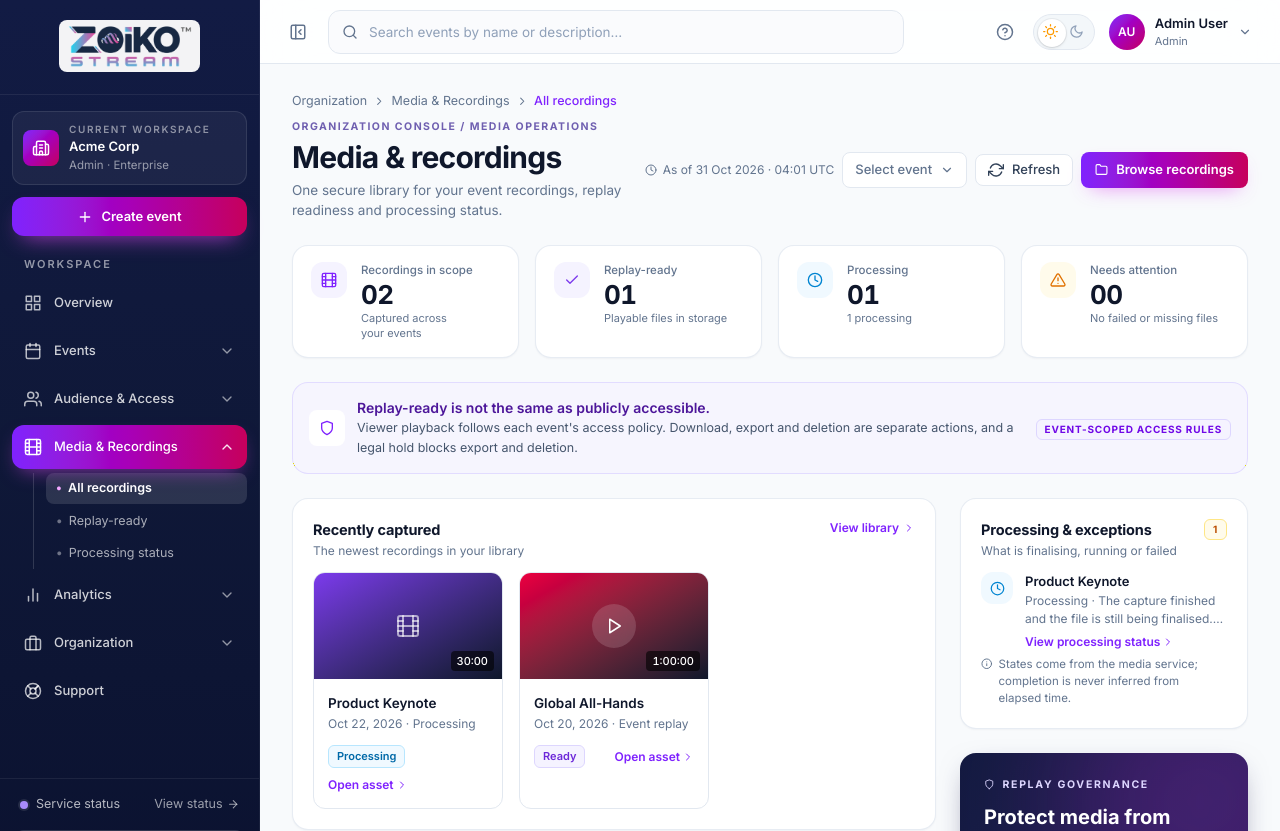
Scenario: Media & Recordings Parent and Child Navigation › clicking disclosure chevron toggles submenu without navigating away
The width and height of the screenshot is (1280, 831).
Expected: the heading "Media & recordings" is shown, [292,138,562,174]
Click the button named "Collapse Media & Recordings" at coordinates (227, 447), box [213,431,241,463]
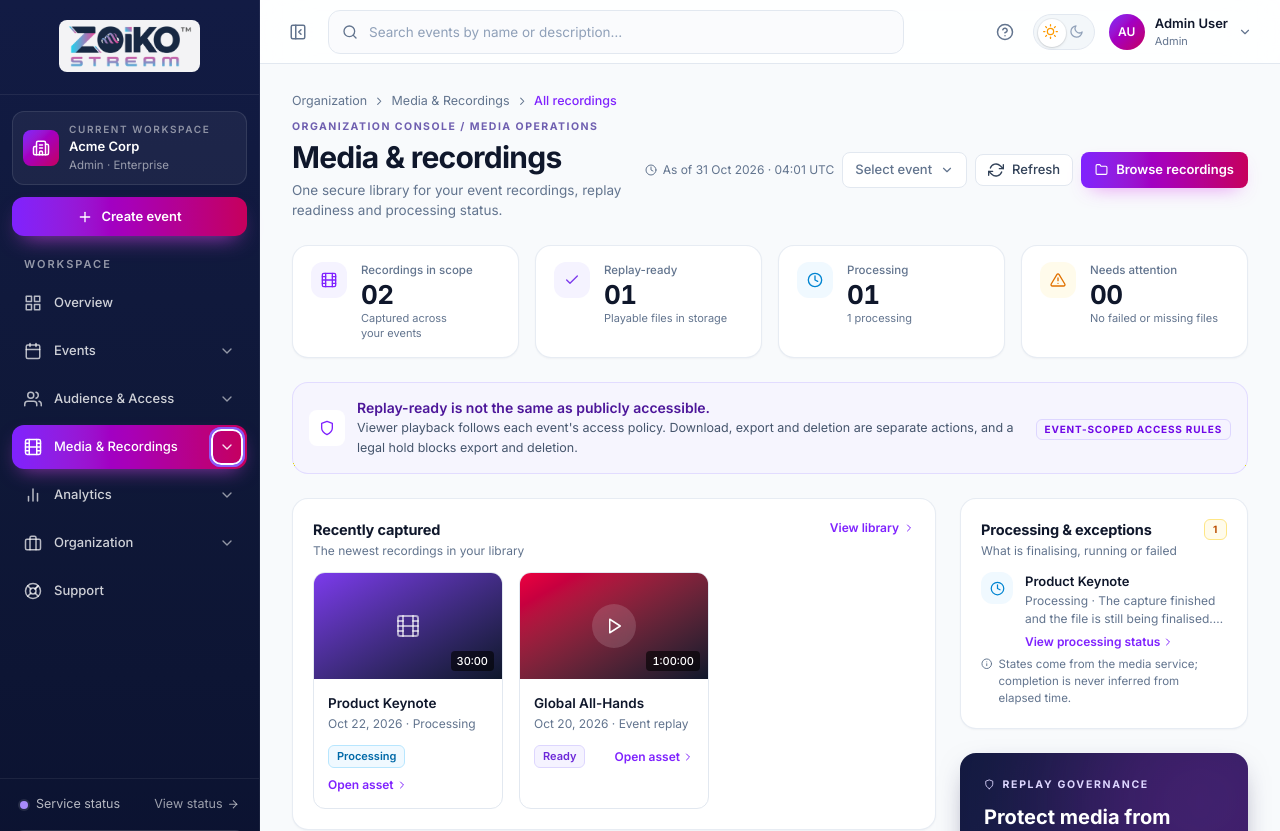
Expected: the heading "Media & recordings" is shown, [292,138,562,174]
Click the button named "Expand Media & Recordings" at coordinates (227, 447), box [213,431,241,463]
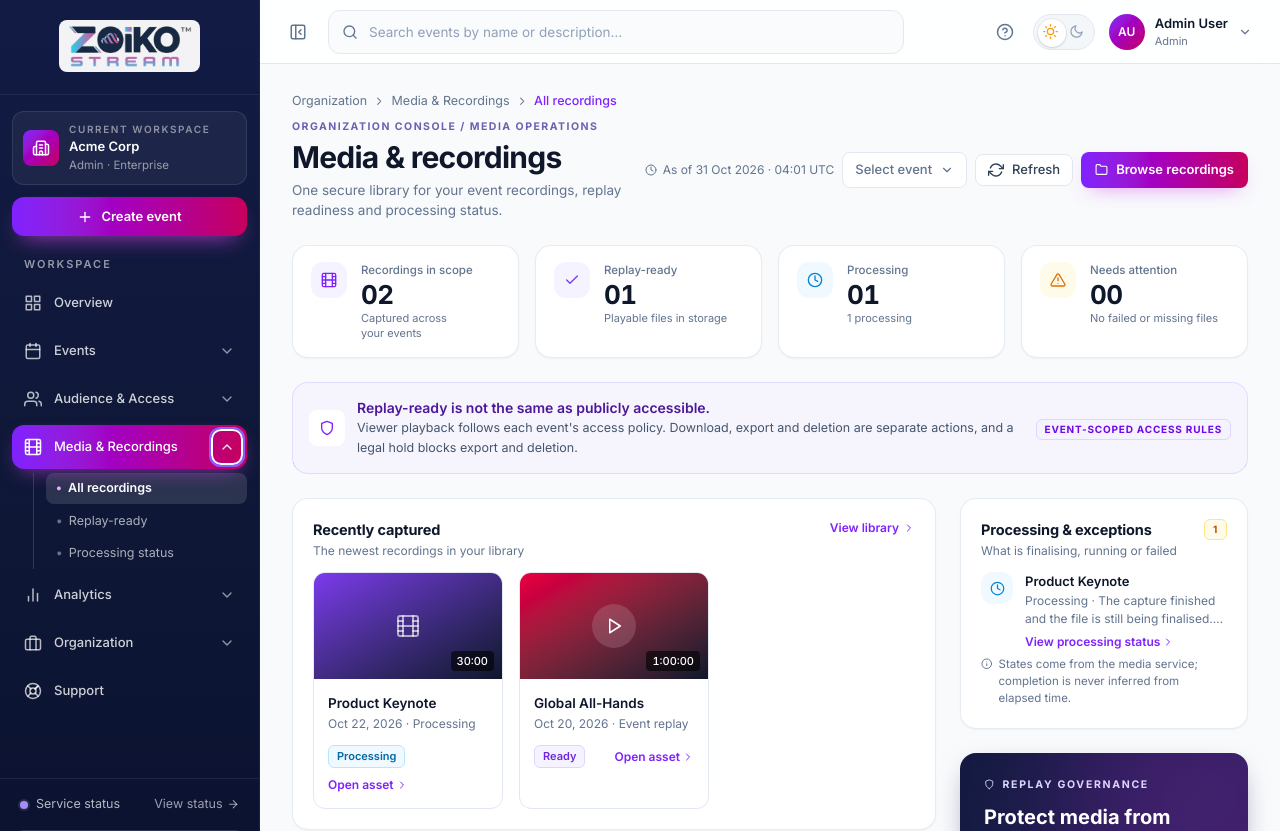
Expected: the link "•All recordings" is shown, [46,473,247,504]
